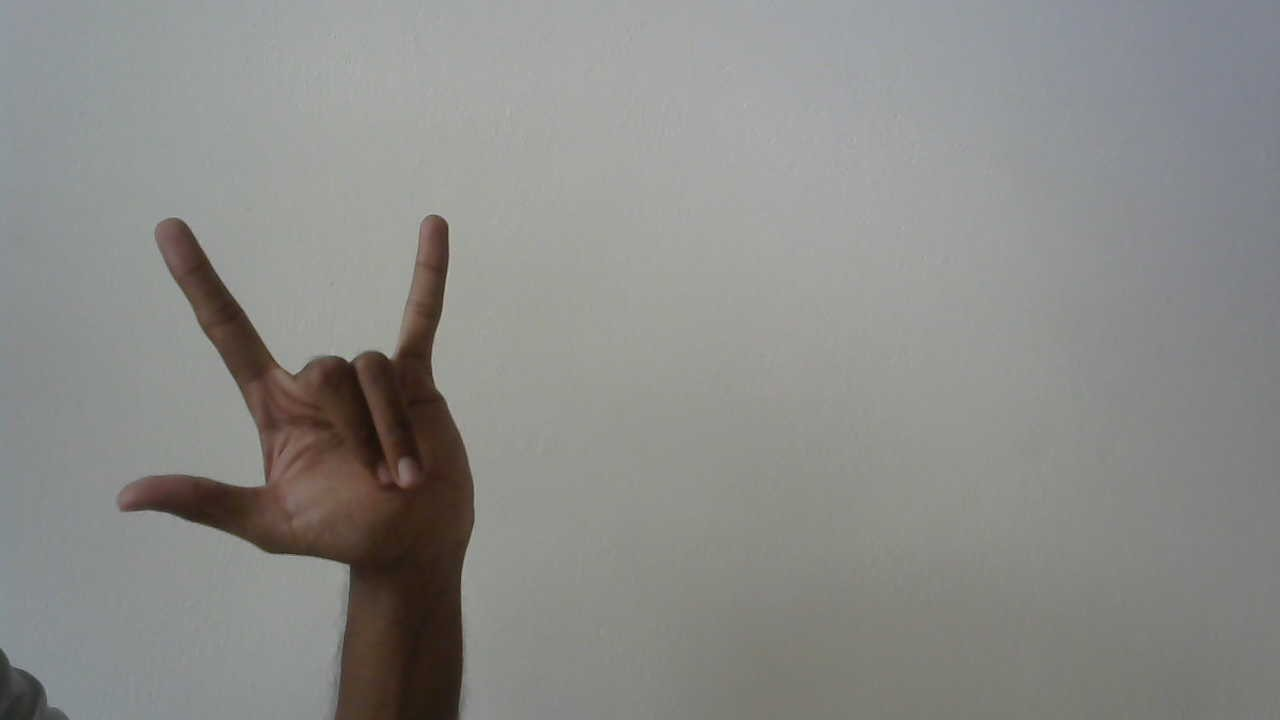iloveyou: (105, 213, 487, 577)
